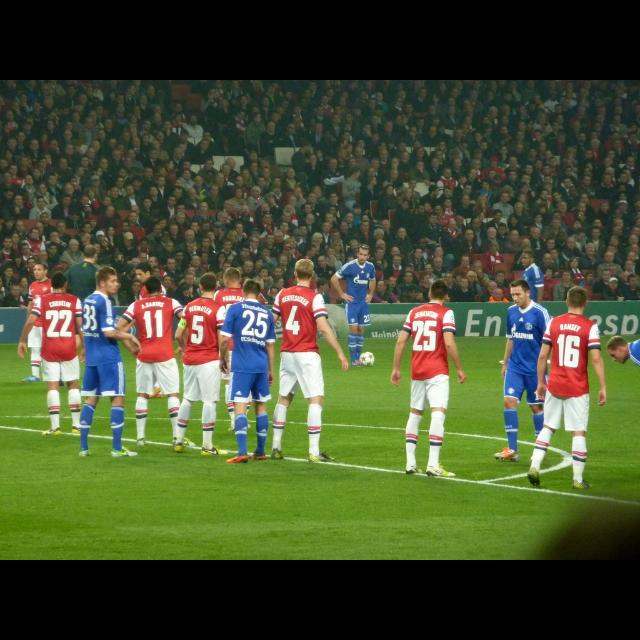Football: (357, 353, 373, 367)
